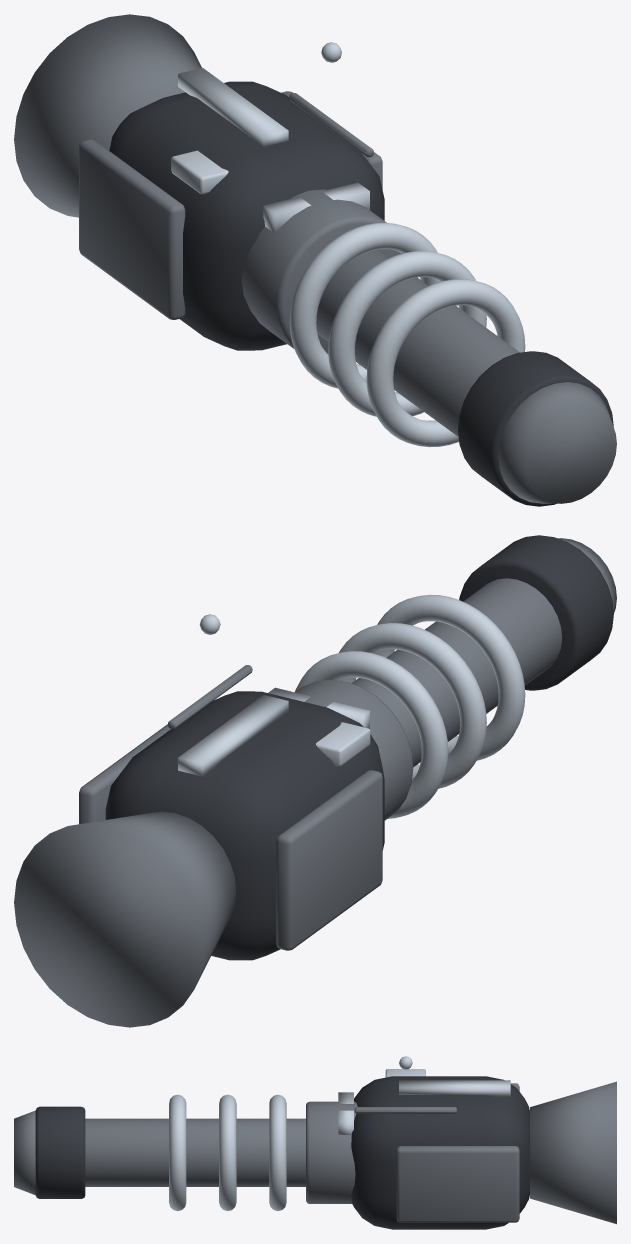
Rendered from weapon_drone_pulse.glb.
The picture shows the model from 3 angles, top to bottom: view 1: azimuth 30°, elevation 25°; view 2: azimuth 150°, elevation 25°; view 3: azimuth 270°, elevation 25°; orthographic projection. The views are drawn at different scales.
Visible parts, largest first — view 1: weapon_drone_pulse; view 2: weapon_drone_pulse; view 3: weapon_drone_pulse.
Boxes of the visible parts, bbox=[...] form: weapon_drone_pulse: bbox=[14, 14, 616, 506]; weapon_drone_pulse: bbox=[14, 535, 616, 1027]; weapon_drone_pulse: bbox=[14, 1056, 616, 1229].
Bounding box in the file's own units: 0.5184 × 0.64 × 1.94.
